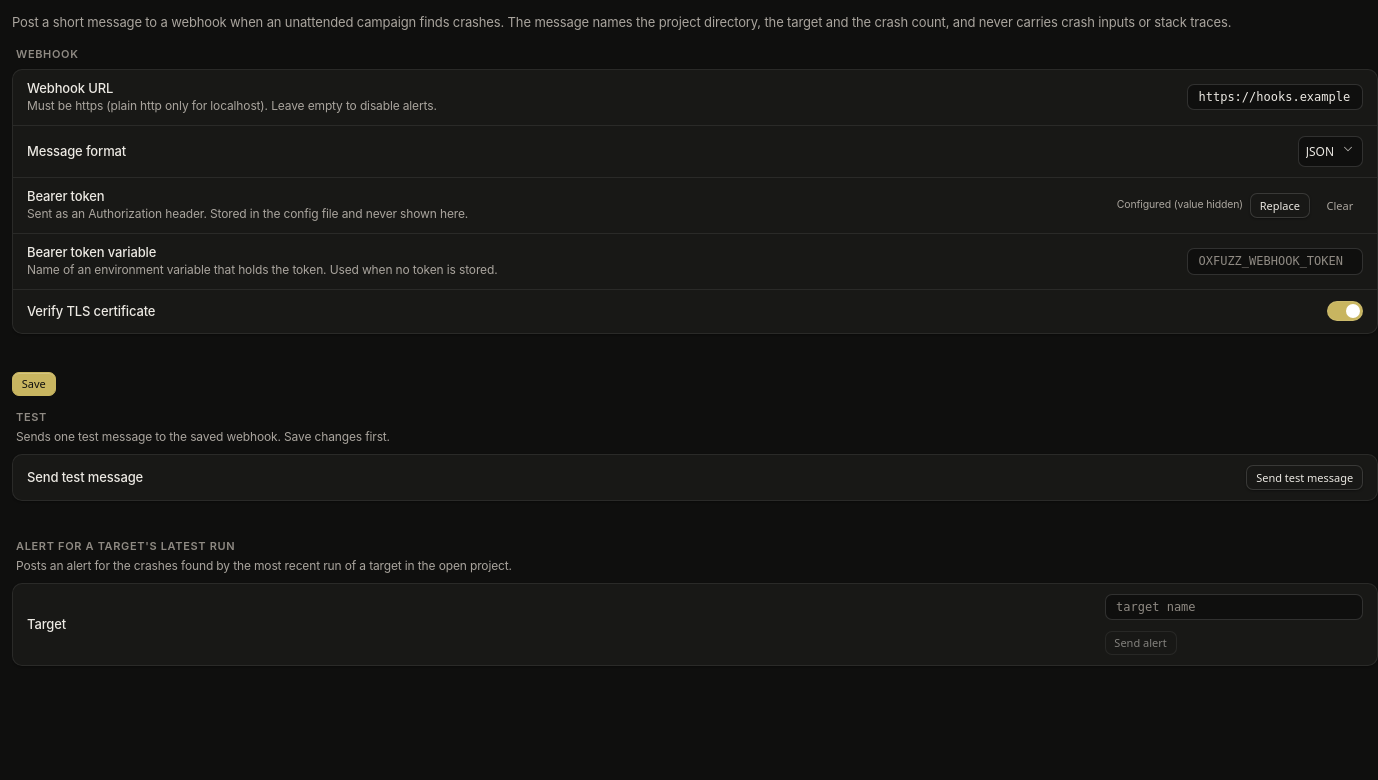
sends a test message and reports a failure inline
Click the button "Send test message" at (1305, 477), box [1246, 465, 1363, 490]
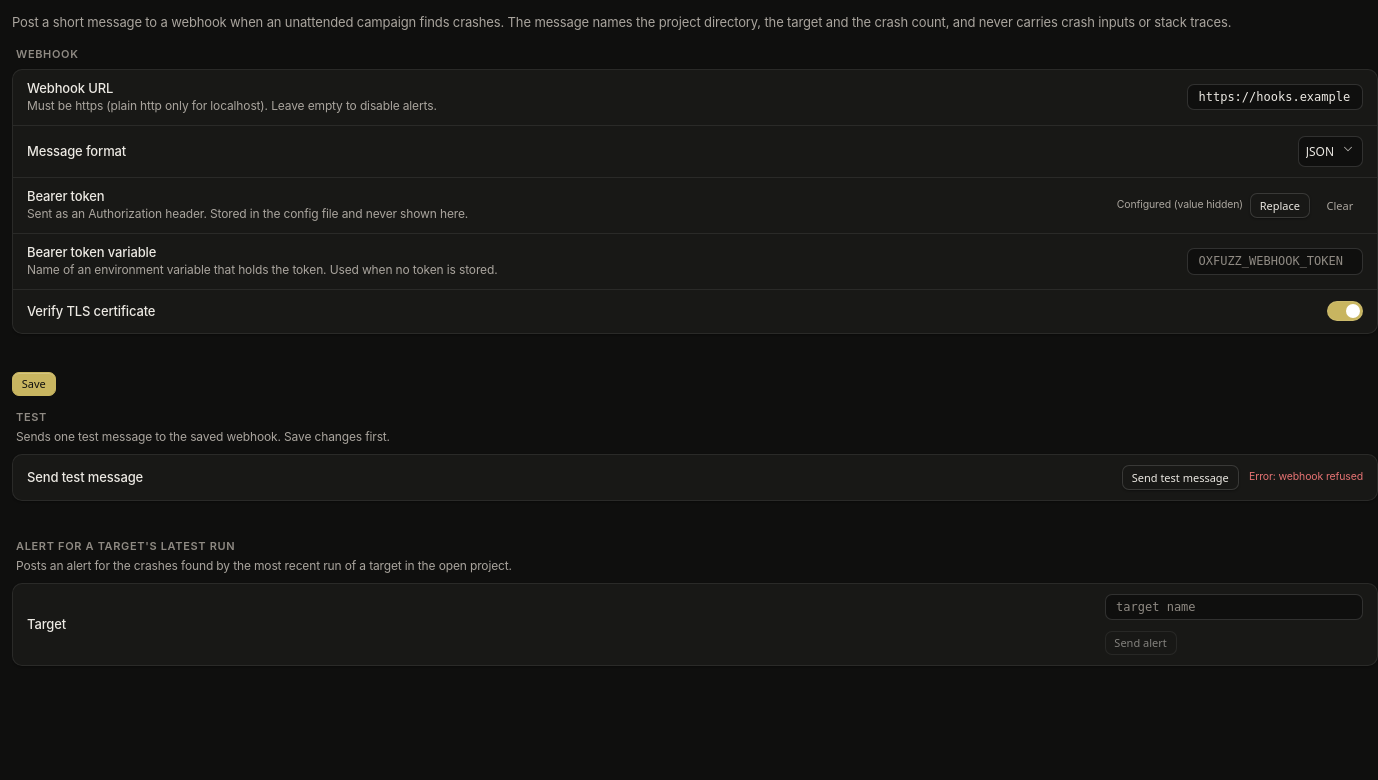
Now the text "webhook refused" is shown, box [1249, 470, 1363, 483]
